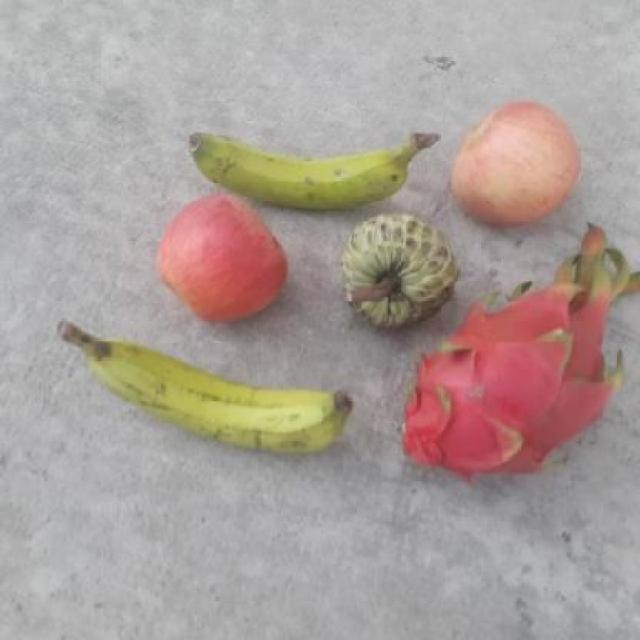apple: (153, 193, 290, 322), (448, 100, 584, 226)
banana: (98, 321, 358, 467), (187, 128, 444, 212)
dragon fruit: (398, 279, 620, 486)
sugar apple: (332, 214, 456, 332)
